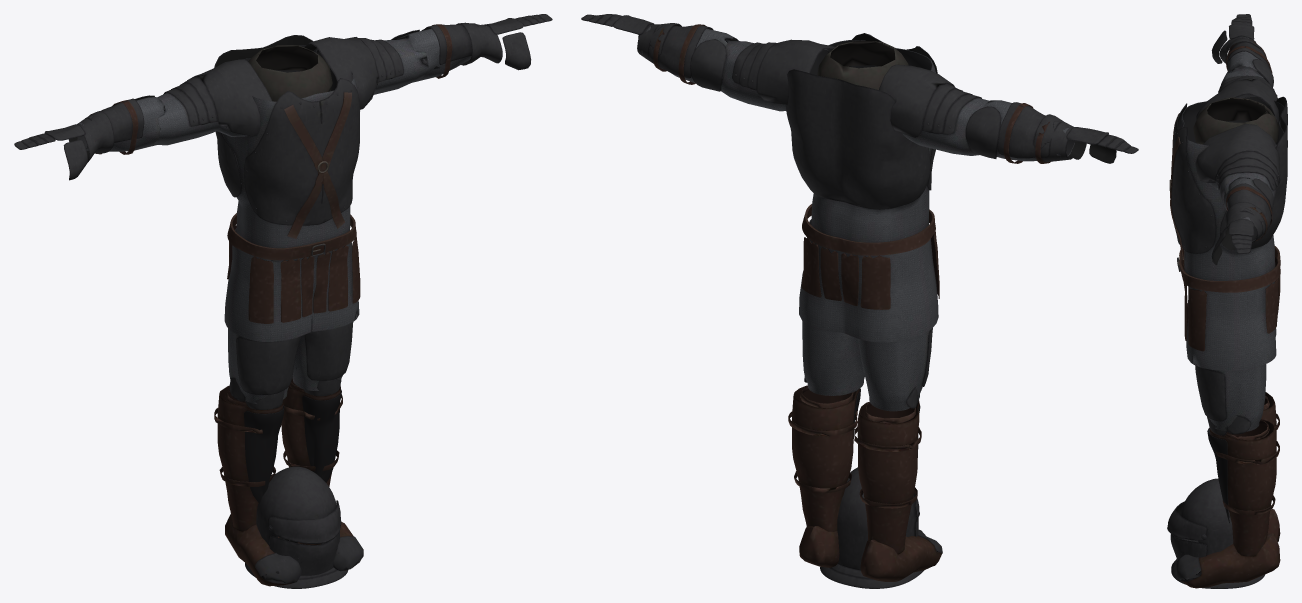
The model's file is ashforged.glb.
3 renders of one model, left to right at view 1: azimuth 30°, elevation 25°; view 2: azimuth 150°, elevation 25°; view 3: azimuth 270°, elevation 25°, orthographic. The views are drawn at different scales.
Parts seen in each view (by area): view 1: chest, feet, gloves, legs, helm; view 2: chest, feet, legs, gloves, helm; view 3: chest, feet, gloves, legs, helm.
Boxes of the visible parts, bbox=[...] form: chest: bbox=[77, 24, 486, 341]; feet: bbox=[214, 378, 363, 586]; gloves: bbox=[14, 14, 552, 180]; legs: bbox=[225, 322, 353, 409]; helm: bbox=[245, 466, 348, 588]; chest: bbox=[641, 24, 1075, 342]; feet: bbox=[788, 385, 942, 581]; legs: bbox=[800, 321, 932, 423]; gloves: bbox=[581, 14, 1138, 163]; helm: bbox=[820, 467, 923, 588]; chest: bbox=[1169, 37, 1287, 370]; feet: bbox=[1176, 392, 1280, 588]; gloves: bbox=[1211, 14, 1272, 265]; legs: bbox=[1195, 364, 1269, 440]; helm: bbox=[1167, 478, 1265, 588].
Size of the model in its own units: 1.78 by 1.61 by 0.3793.
5 materials, 5 textured.
